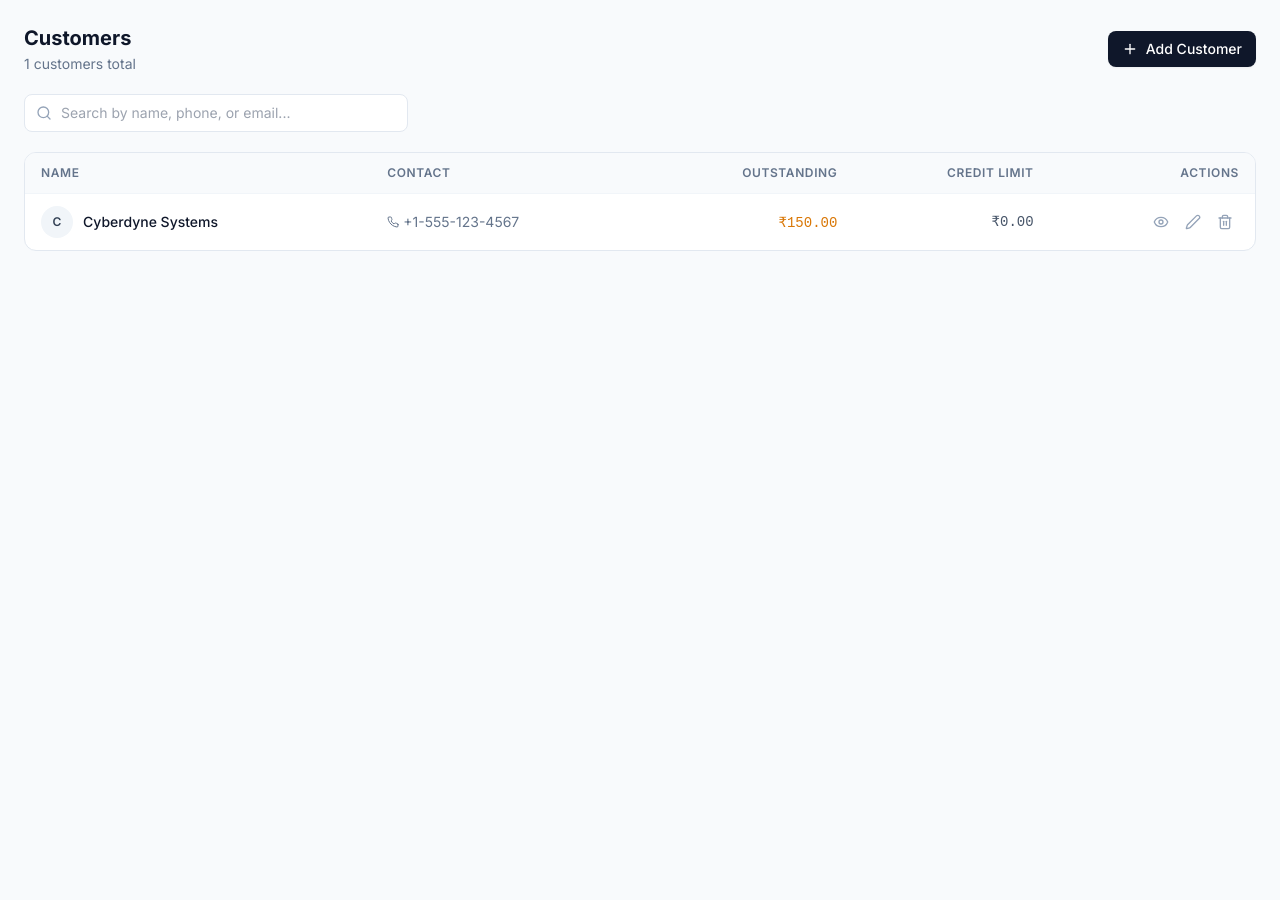
Test case: BUSINESSFLOW — Stages 5–8 Frontend Operations & Management Tests › CustomersPage: lists customers and opens create modal
The image size is (1280, 900).
Expected: the text "Cyberdyne Systems" is shown, [83,212,218,232]
Expected: the text "₹150.00" is shown, [778,214,837,230]
// Click Add Customer
Click the button "Add Customer" at (1182, 49), box [1108,31,1256,67]
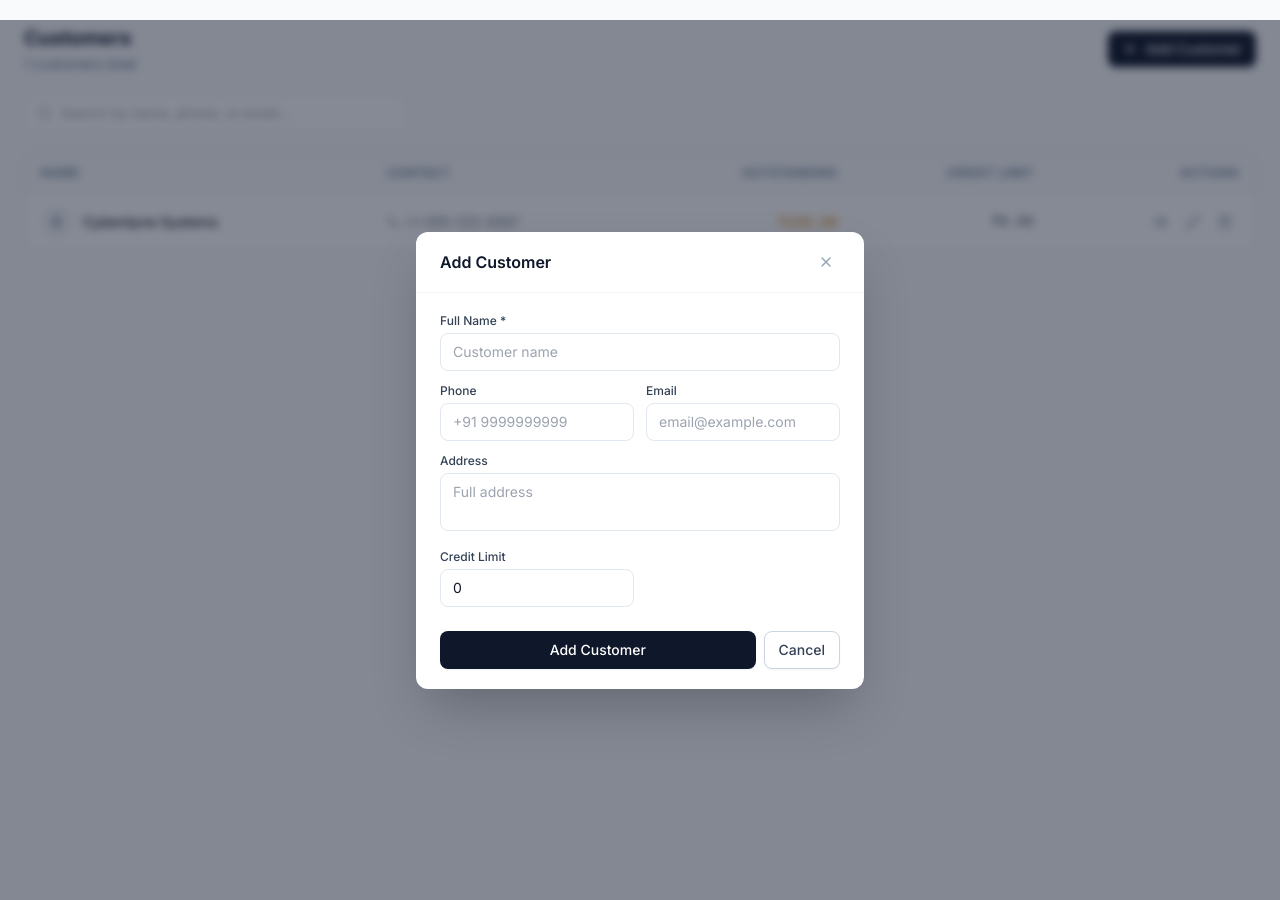
Expected: the field with placeholder "Customer name" is shown, [440,332,840,370]
